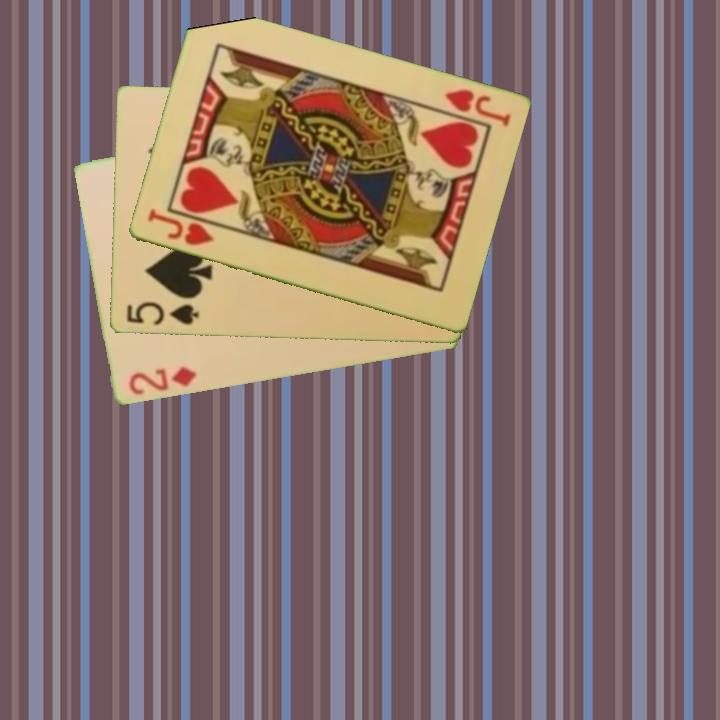2d: (124, 364, 199, 398)
5s: (123, 299, 201, 328)
Jh: (440, 85, 513, 130), (143, 205, 217, 249)
